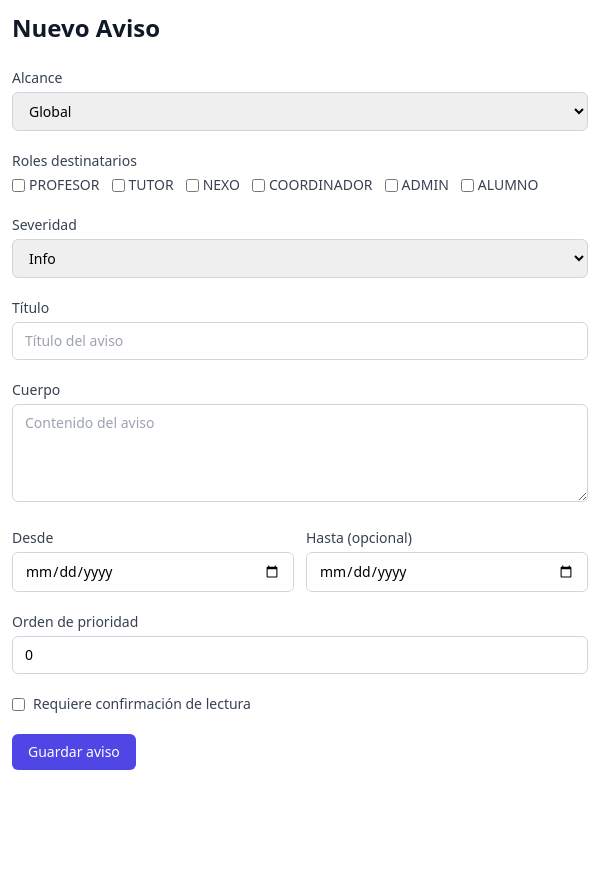
Test: NuevoAvisoPage › shows materia selector when scope is materia
Select "Materia" in the dropdown labelled "Alcance" at (300, 112), box x1=12 y1=92 x2=588 y2=131
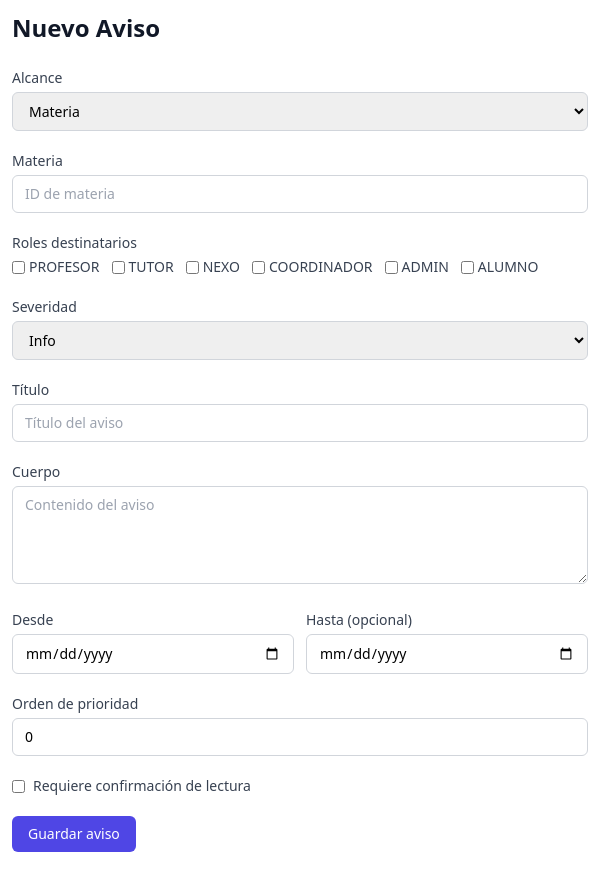
Now the field labelled "Materia" is shown, box x1=12 y1=175 x2=588 y2=213
